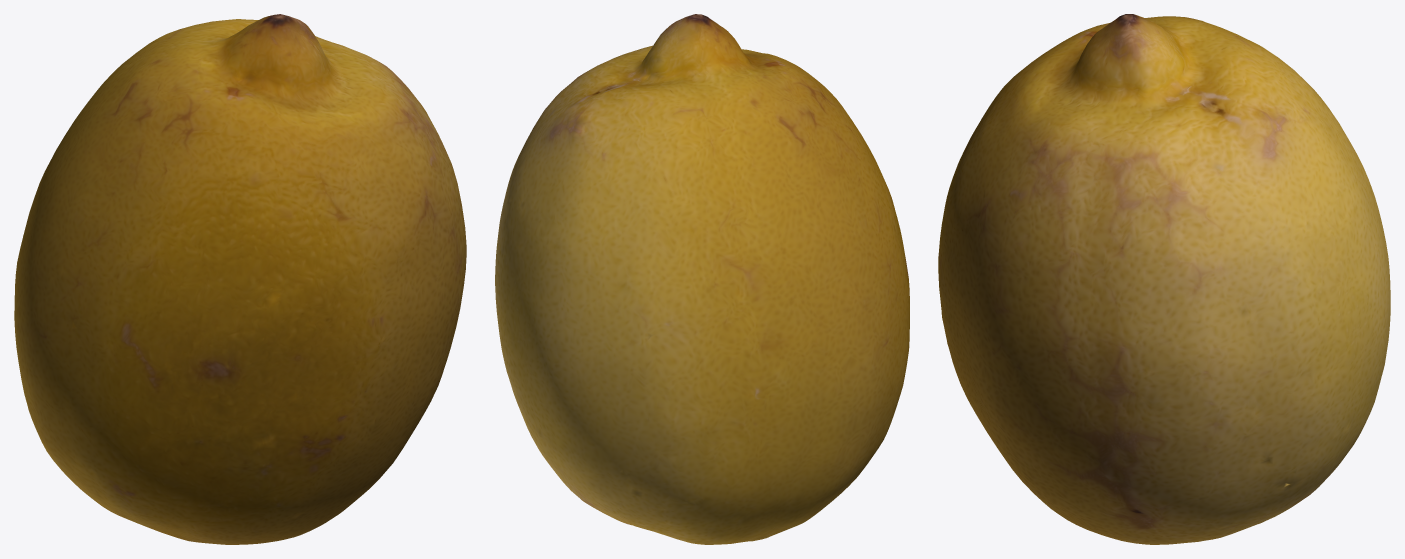
The model's file is lemon.obj.
The picture shows the model from 3 angles, left to right: view 1: azimuth 30°, elevation 25°; view 2: azimuth 150°, elevation 25°; view 3: azimuth 270°, elevation 25°; orthographic projection. The views are drawn at different scales.
Visible parts, largest first — view 1: cytryna_1_model; view 2: cytryna_1_model; view 3: cytryna_1_model.
Part boxes in pixels (bbox=[...]): cytryna_1_model: bbox=[14, 14, 466, 544]; cytryna_1_model: bbox=[495, 14, 909, 544]; cytryna_1_model: bbox=[938, 14, 1390, 544].
Bounding box in the file's own units: 0.0776 × 0.0985 × 0.077.
